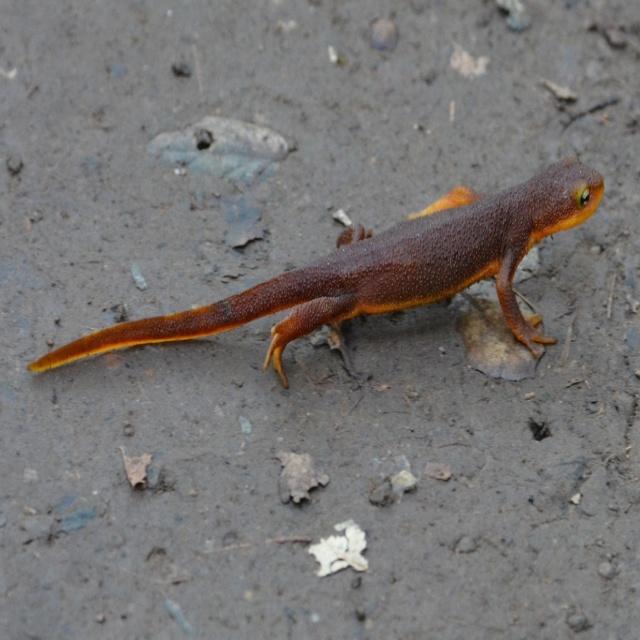Lizard: (25, 154, 604, 390)
